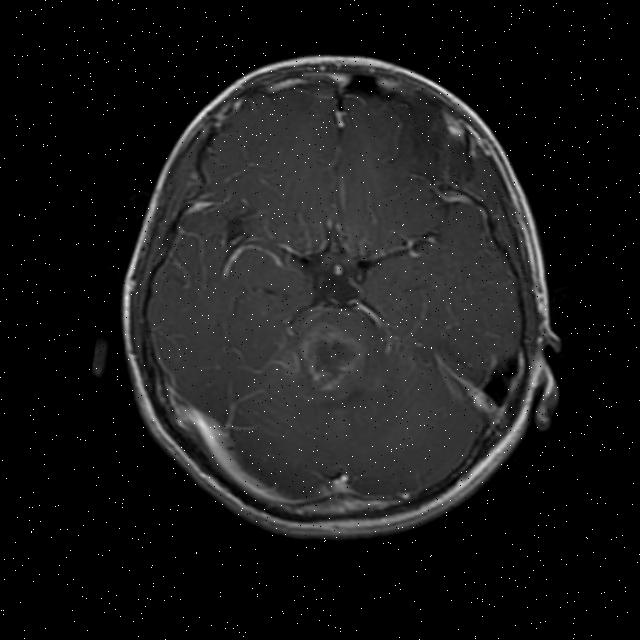Glioma: (292, 319, 369, 398)
